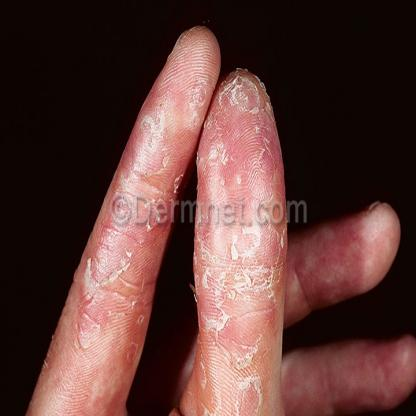Eczema: (200, 233, 281, 416)
